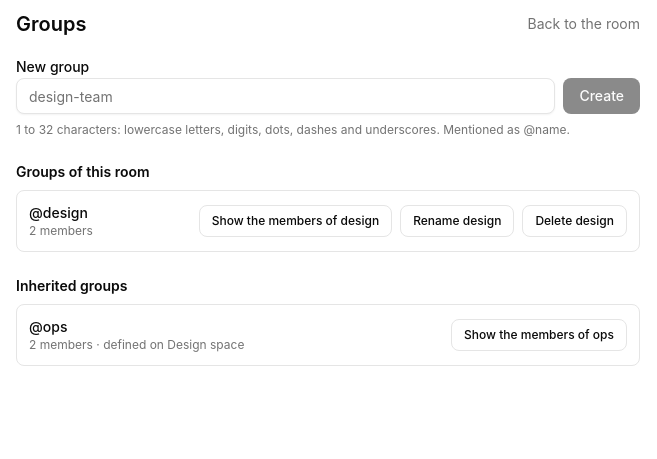
Test: RoomGroups › keeps the rename form open and shows the server error
Expected: the text "@design" is shown, top-left (29, 204), bottom-right (88, 221)
Click the button "Rename design" at (457, 221), box top-left (400, 205), bottom-right (514, 237)
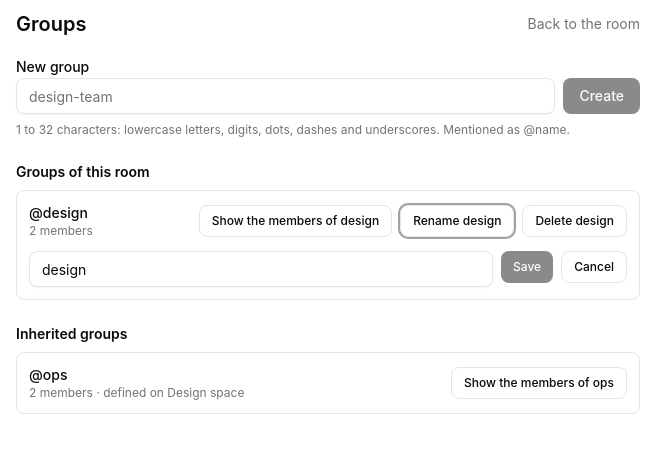
Replace the text in the field named "New name" with "ops" at (261, 269), box top-left (29, 251), bottom-right (493, 287)
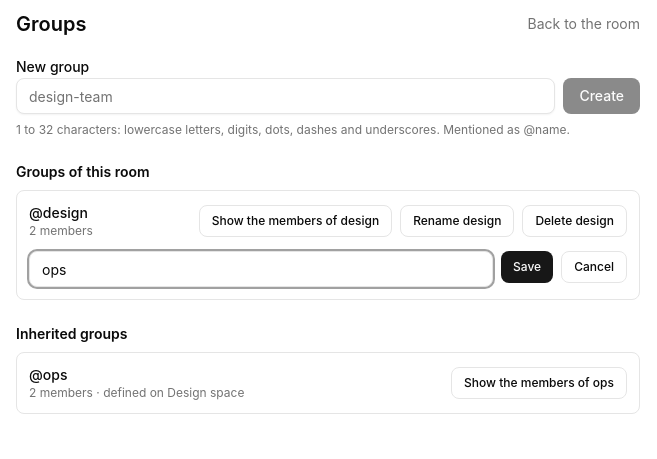
Click the button "Save" at (527, 267), box top-left (501, 251), bottom-right (553, 283)
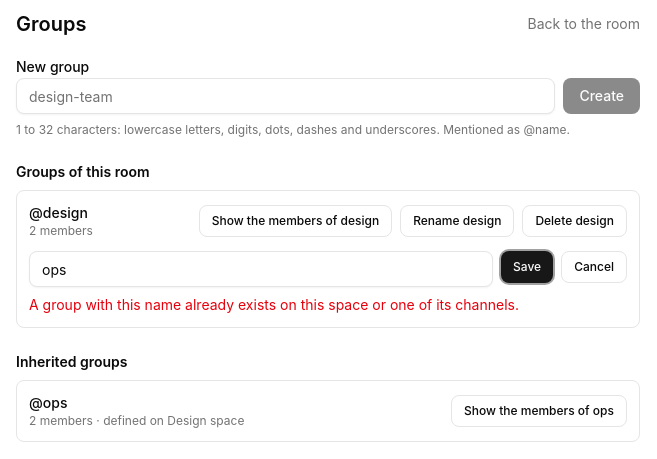
Expected: the message shows "already exists", top-left (29, 296), bottom-right (519, 313)
